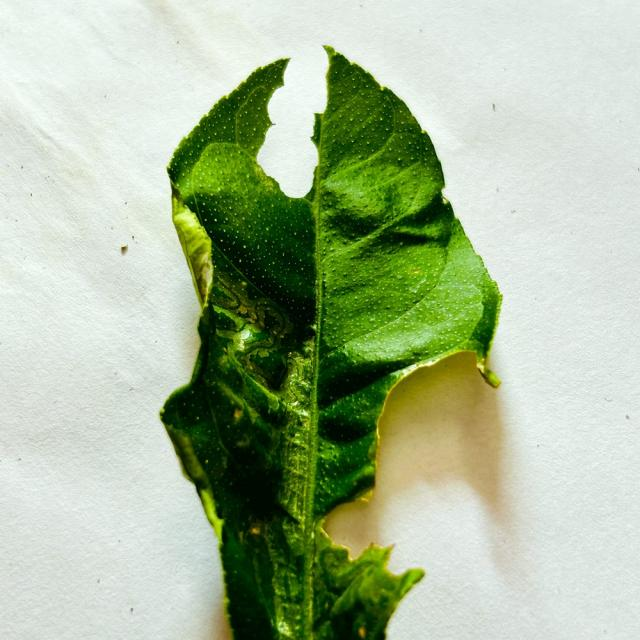Deficiency Leaf: (324, 355, 552, 637), (166, 426, 244, 638), (258, 45, 328, 196), (171, 183, 211, 317)
Lemon: (161, 46, 501, 639)
